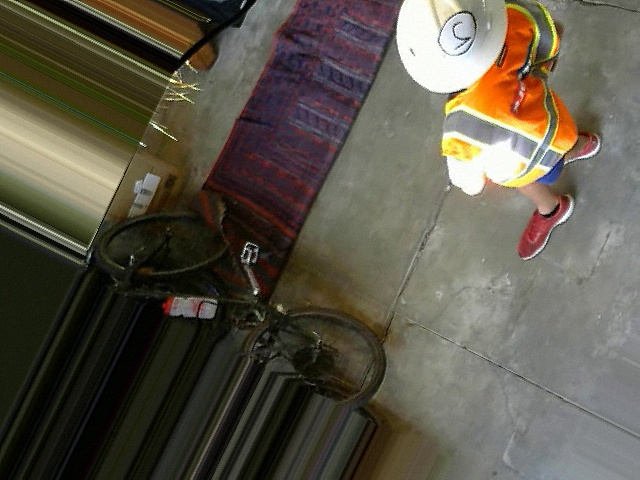two: (433, 3, 484, 61)
